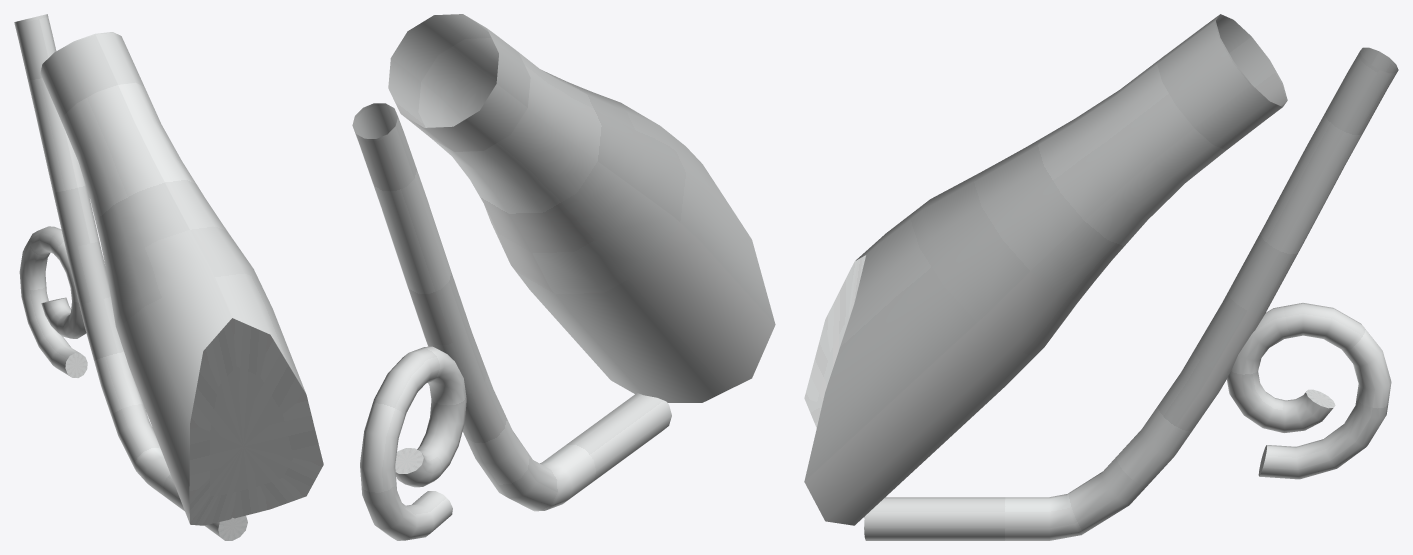
The model's file is luminairearm_anaheim8ft_c0_pedestal.obj.
3 renders of one model, left to right at view 1: azimuth 30°, elevation 25°; view 2: azimuth 150°, elevation 25°; view 3: azimuth 270°, elevation 25°, orthographic. The views are drawn at different scales.
Visible parts, largest first — view 1: luminairearm_anaheim8ft_c0_pedestal; view 2: luminairearm_anaheim8ft_c0_pedestal; view 3: luminairearm_anaheim8ft_c0_pedestal.
Boxes of the visible parts, bbox=[...] form: luminairearm_anaheim8ft_c0_pedestal: bbox=[14, 14, 323, 540]; luminairearm_anaheim8ft_c0_pedestal: bbox=[352, 14, 775, 540]; luminairearm_anaheim8ft_c0_pedestal: bbox=[804, 14, 1398, 540].
Bounding box in the file's own units: 0.3375 × 0.9761 × 1.01.
